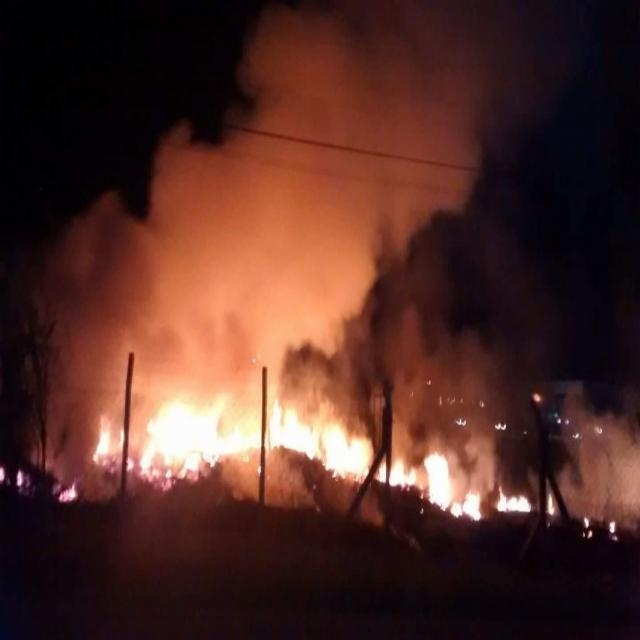Fire: (89, 396, 376, 493), (424, 450, 484, 523), (377, 451, 415, 488), (495, 482, 534, 510), (57, 481, 78, 507), (548, 491, 556, 516)
